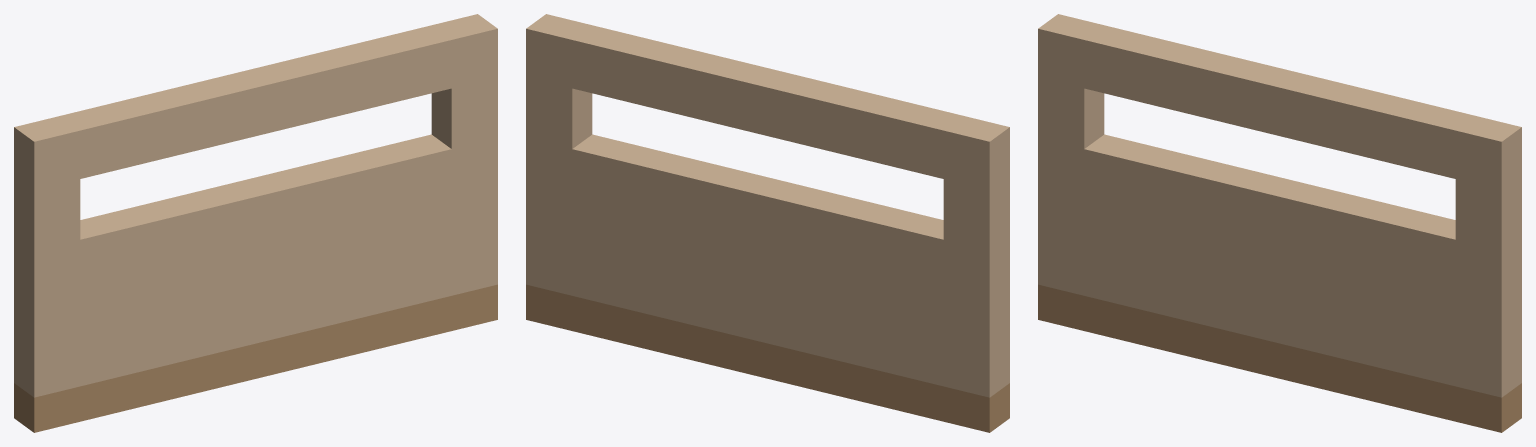
Rendered from wall_01.gltf.
The picture shows the model from 3 angles, left to right: view 1: azimuth 30°, elevation 25°; view 2: azimuth 150°, elevation 25°; view 3: azimuth 330°, elevation 25°; orthographic projection.
Parts seen in each view (by area): view 1: Wall_01; view 2: Wall_01; view 3: Wall_01.
Part boxes in pixels (<box>): Wall_01: <box>14,14,497,432</box>; Wall_01: <box>526,14,1009,432</box>; Wall_01: <box>1038,14,1521,432</box>.
Bounding box in the file's own units: 4 × 2.4 × 0.3.
1 material, 1 textured.
